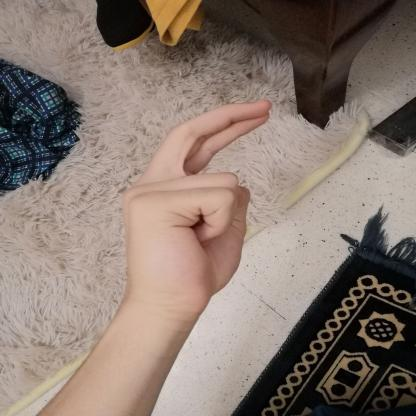ZAY: (112, 90, 282, 321)
